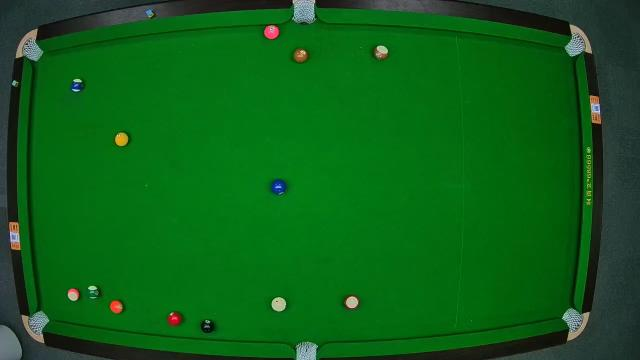bag1: (20, 39, 40, 58)
bag2: (293, 1, 317, 25)
bag3: (567, 34, 587, 57)
bag4: (28, 311, 46, 333)
bag5: (294, 340, 318, 360)
bag6: (562, 308, 582, 332)
ball0: (271, 296, 287, 312)
ball1: (115, 132, 129, 148)
ball10: (70, 79, 86, 93)
ball11: (344, 294, 360, 310)
ball12: (66, 287, 80, 301)
ball14: (86, 285, 100, 299)
ball15: (373, 45, 389, 59)
ball2: (270, 178, 286, 194)
ball3: (166, 312, 182, 326)
ball4: (264, 25, 280, 40)
ball5: (111, 300, 123, 314)
ball7: (292, 48, 308, 64)
ball8: (200, 318, 216, 334)
